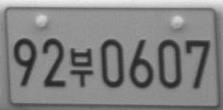0: (99, 38, 124, 88), (157, 39, 182, 89)
2: (41, 37, 66, 87)
6: (129, 38, 154, 89)
7: (185, 39, 211, 90)
9: (12, 36, 37, 87)
부: (69, 47, 94, 87)
